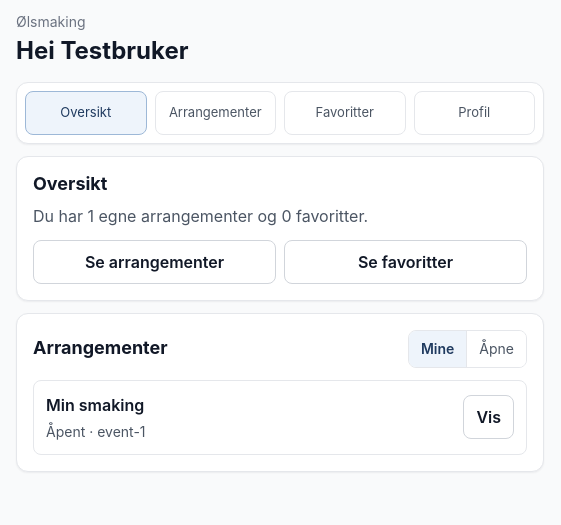
it: App core flows › renders profile tab with read-only email and prefilled nickname
Step 1. Click the button "Profil" → (474, 113), box [414,91,535,135]
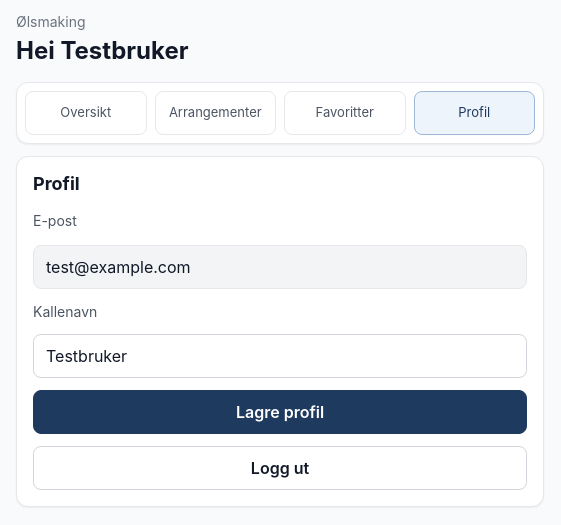
Expected: the text "test@example.com" is shown, [33,244,527,288]
Expected: the field labelled "Kallenavn" holds "Testbruker", [33,334,527,378]
